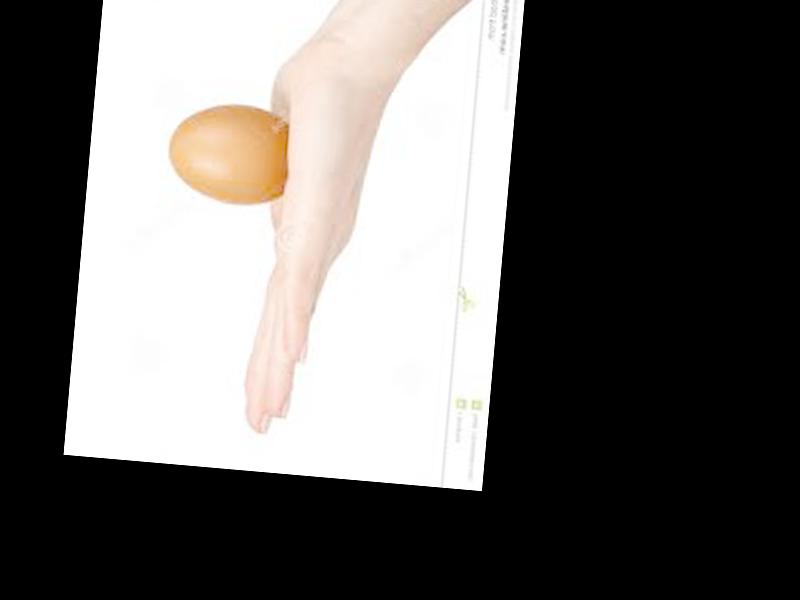Eggs: (165, 101, 295, 209)
